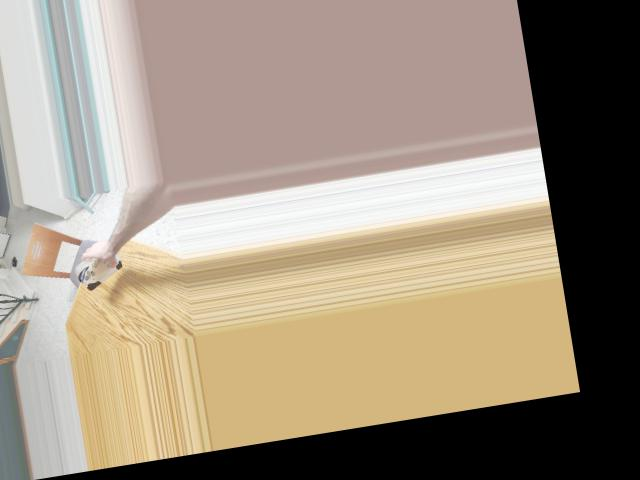cheese: (71, 238, 129, 292)
